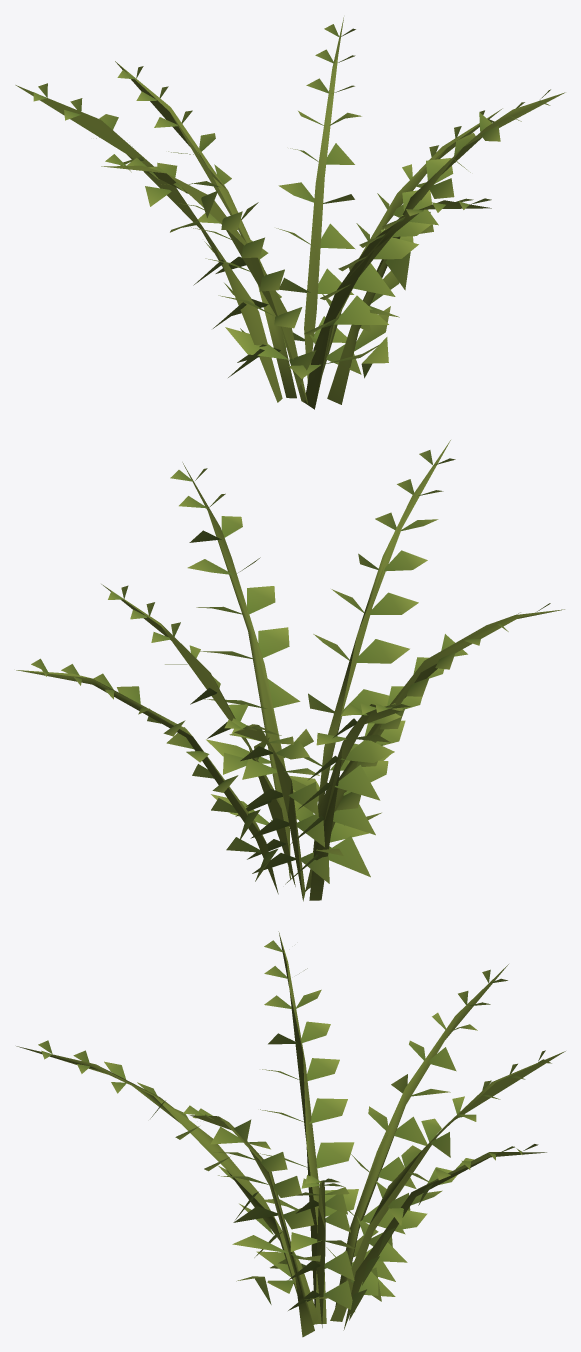
File: fern_upright.glb
The picture shows the model from 3 angles, top to bottom: view 1: azimuth 30°, elevation 25°; view 2: azimuth 150°, elevation 25°; view 3: azimuth 270°, elevation 25°; orthographic projection. The views are drawn at different scales.
Parts seen in each view (by area): view 1: Plant; view 2: Plant; view 3: Plant.
Part boxes in pixels (bbox=[...]): Plant: bbox=[15, 17, 565, 409]; Plant: bbox=[16, 440, 564, 901]; Plant: bbox=[16, 931, 565, 1337].
Size of the model in its own units: 0.5602 by 0.3997 by 0.6709.
